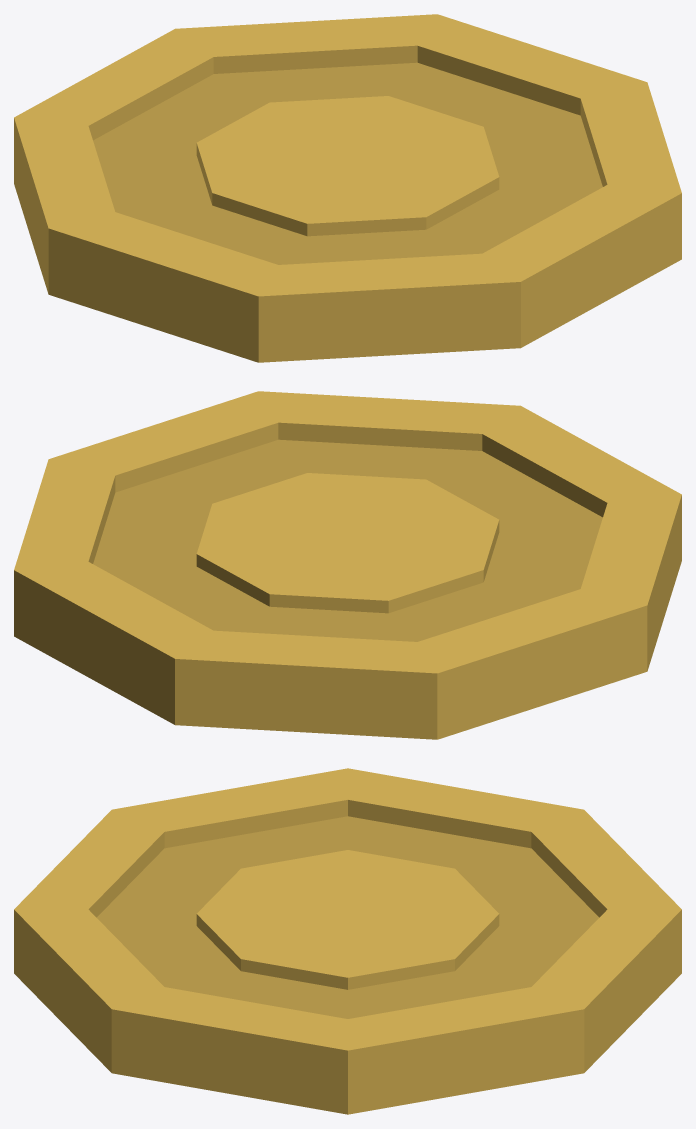
3 renders of one model, top to bottom at view 1: azimuth 30°, elevation 25°; view 2: azimuth 150°, elevation 25°; view 3: azimuth 270°, elevation 25°, orthographic. The views are drawn at different scales.
Parts seen in each view (by area): view 1: coin_0; view 2: coin_0; view 3: coin_0.
Part boxes in pixels (<box>): coin_0: <box>14,14,681,362</box>; coin_0: <box>14,391,681,739</box>; coin_0: <box>14,768,681,1114</box>.
Size of the model in its own units: 0.1596 by 0.0169 by 0.1596.
